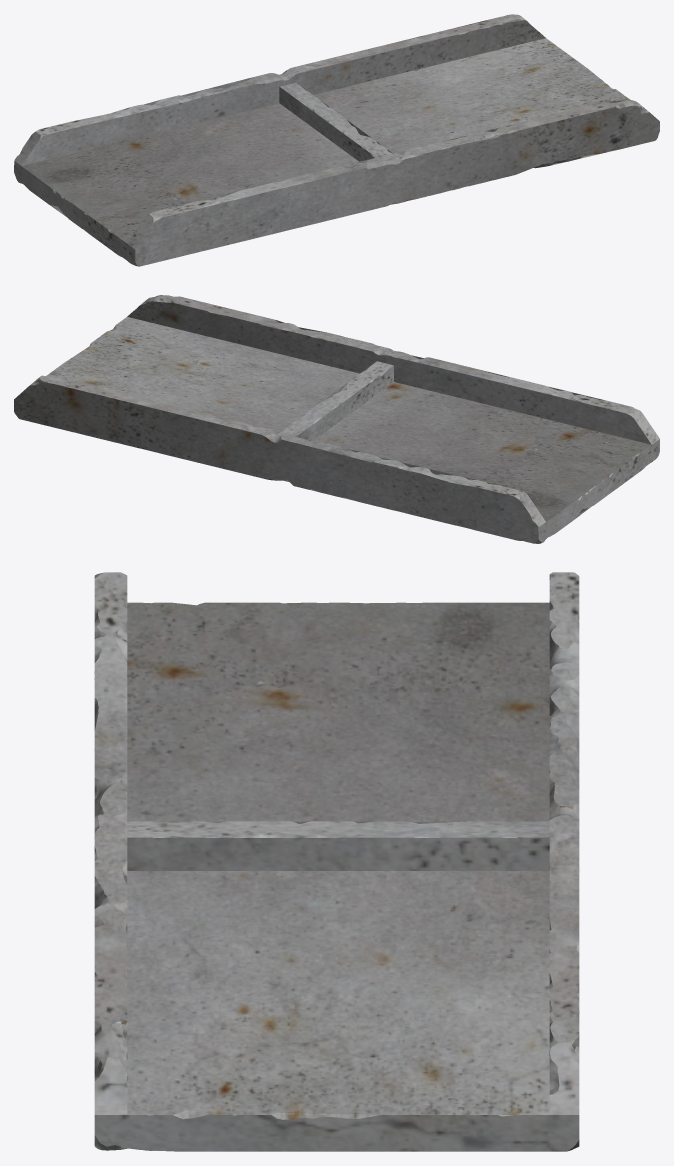
Rendered from plita_bet_002_3.fbx.
The picture shows the model from 3 angles, top to bottom: view 1: azimuth 30°, elevation 25°; view 2: azimuth 150°, elevation 25°; view 3: azimuth 270°, elevation 25°; orthographic projection. The views are drawn at different scales.
Parts seen in each view (by area): view 1: plita_bet_002_1; view 2: plita_bet_002_1; view 3: plita_bet_002_1.
Boxes of the visible parts, x1,y1,x2,y2 form: plita_bet_002_1: [14, 14, 659, 266]; plita_bet_002_1: [14, 295, 659, 543]; plita_bet_002_1: [94, 572, 579, 1151].
Size of the model in its own units: 600 by 47.55 by 240.
Materials: 1 (1 with a texture image).
